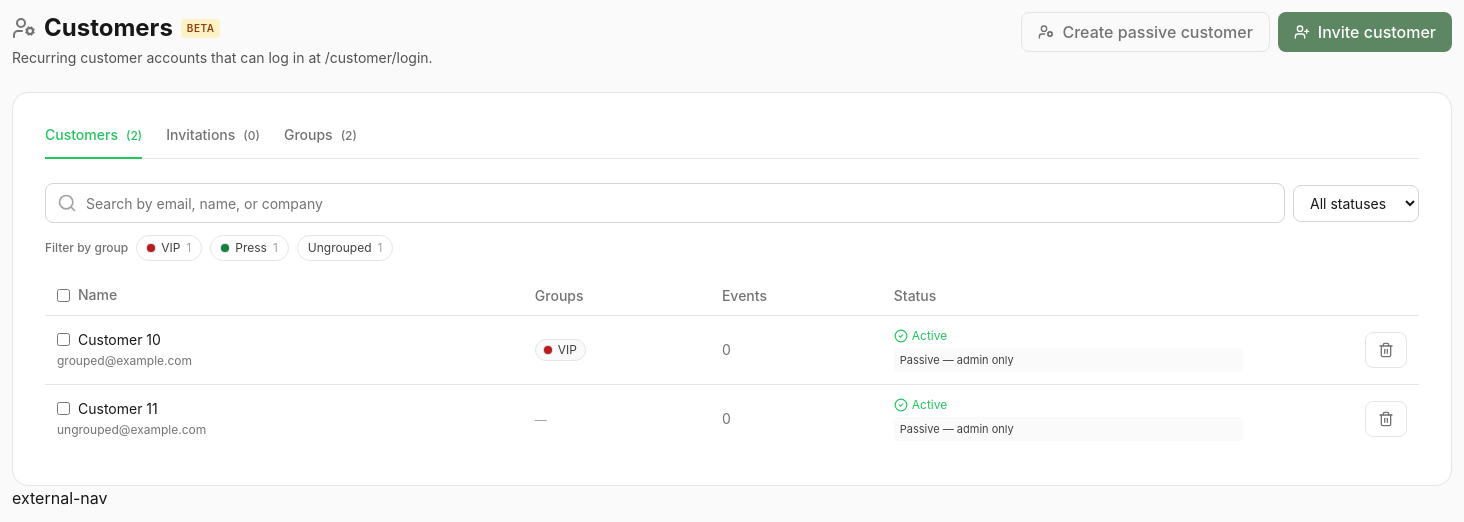
it: the overview › says so when a filter matches nobody
Expected: the text "grouped@example.com" is shown, [57,353,192,368]
Click the button "Press 1": (250, 248) [210,235,289,261]
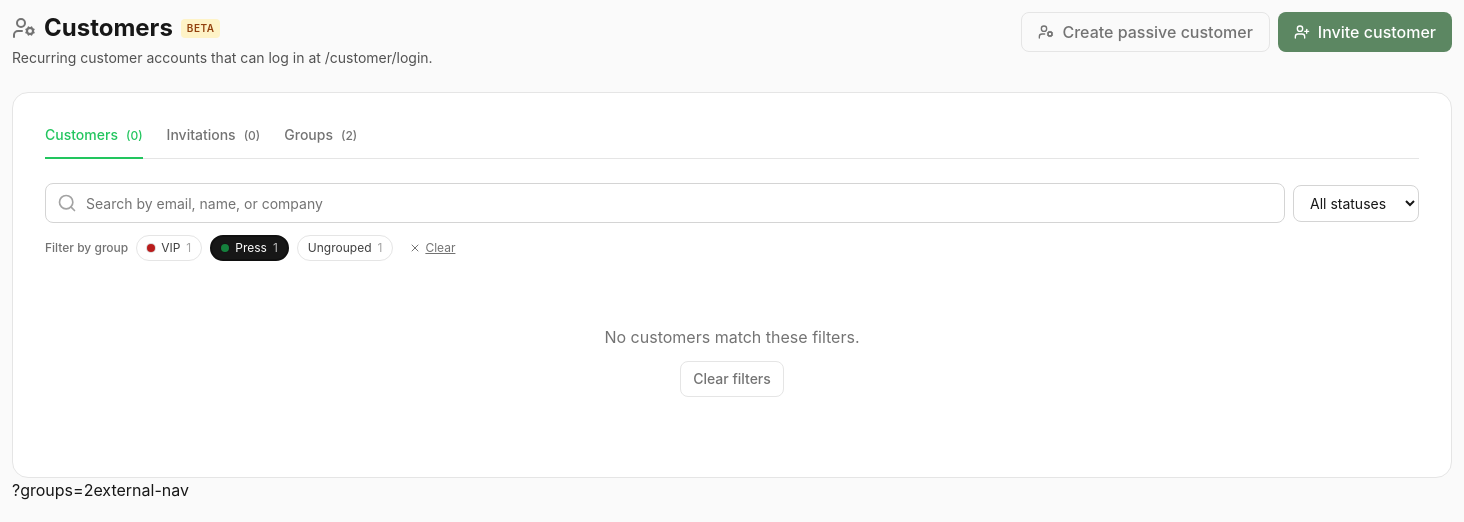
Result: the text "No customers match these filters." is shown at [604,325,860,349]
